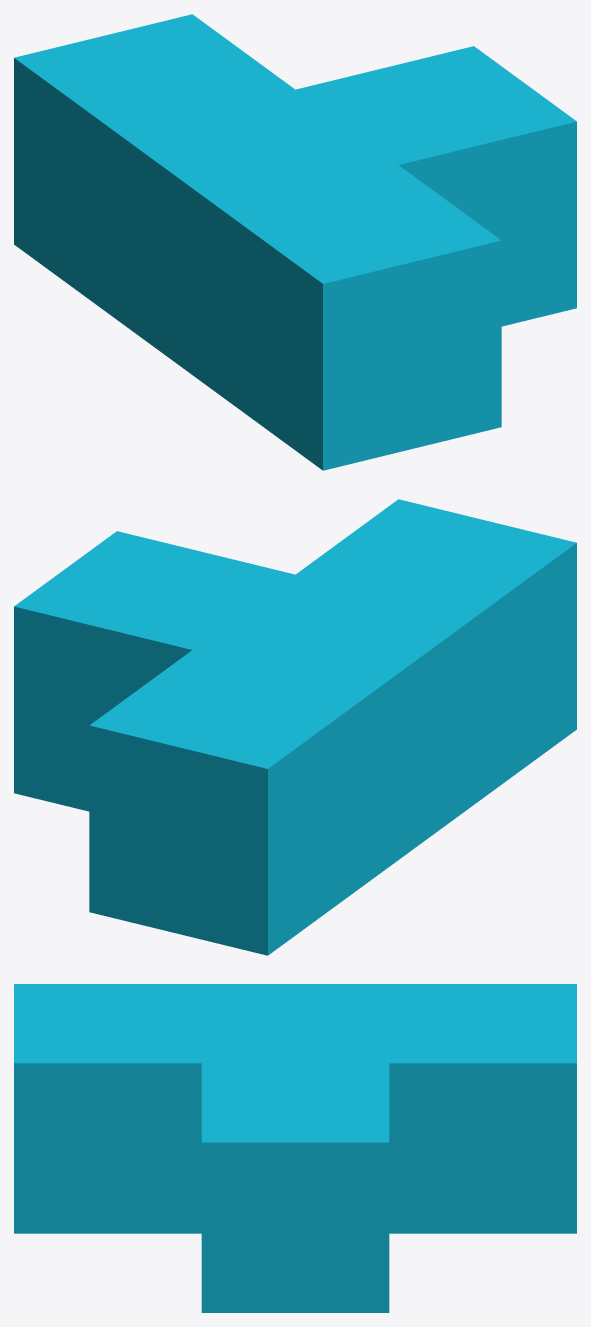
Rendered from tetris t.fbx.
The picture shows the model from 3 angles, top to bottom: view 1: azimuth 30°, elevation 25°; view 2: azimuth 150°, elevation 25°; view 3: azimuth 270°, elevation 25°; orthographic projection. The views are drawn at different scales.
Visible parts, largest first — view 1: Cube.003; view 2: Cube.003; view 3: Cube.003.
Part boxes in pixels (bbox=[...]): Cube.003: bbox=[14, 14, 576, 470]; Cube.003: bbox=[14, 499, 576, 955]; Cube.003: bbox=[14, 984, 576, 1312].
Size of the model in its own units: 400 by 200 by 600.
